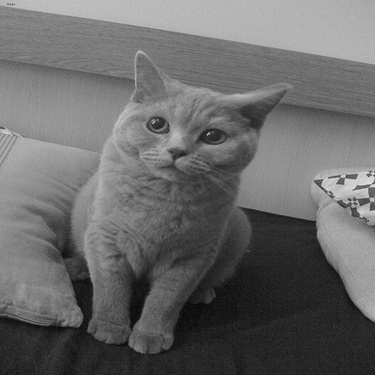cat: (68, 45, 298, 359)
